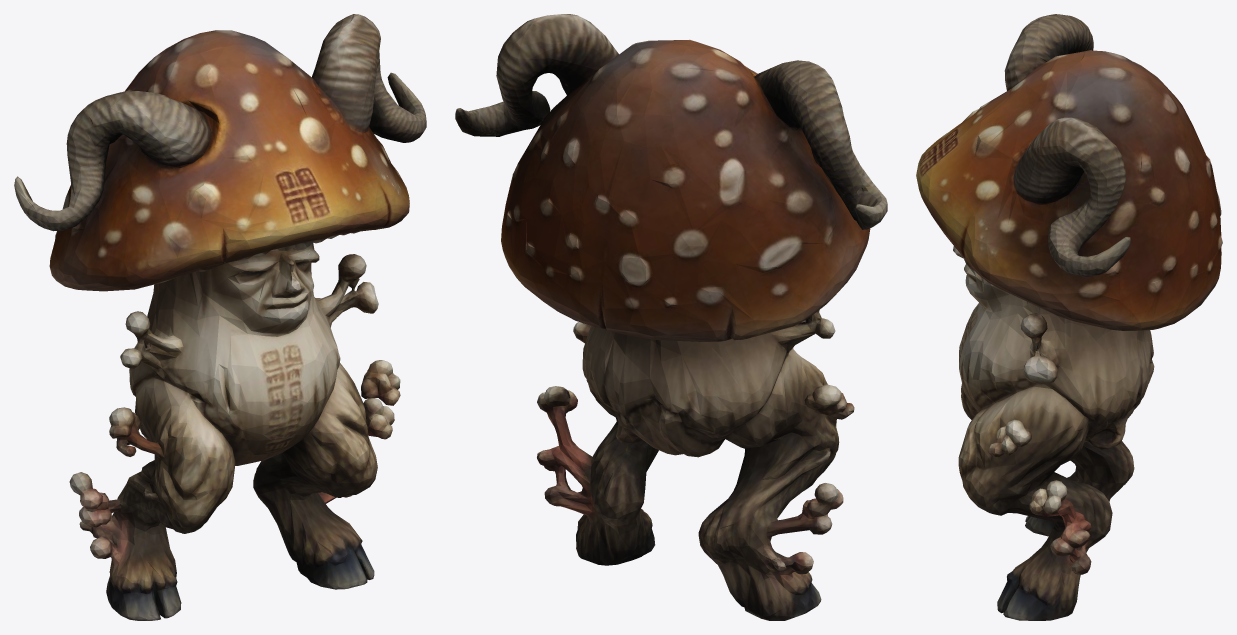
Rendered from sporeSatyr.glb.
3 renders of one model, left to right at view 1: azimuth 30°, elevation 25°; view 2: azimuth 150°, elevation 25°; view 3: azimuth 270°, elevation 25°, orthographic. The views are drawn at different scales.
Parts seen in each view (by area): view 1: world; view 2: world; view 3: world.
Boxes of the visible parts, x1,y1,x2,y2 form: world: (14,14,426,620); world: (455,14,887,620); world: (916,14,1222,620).
Size of the model in its own units: 0.7922 by 0.9986 by 0.5485.
Materials: 1 (1 with a texture image).
